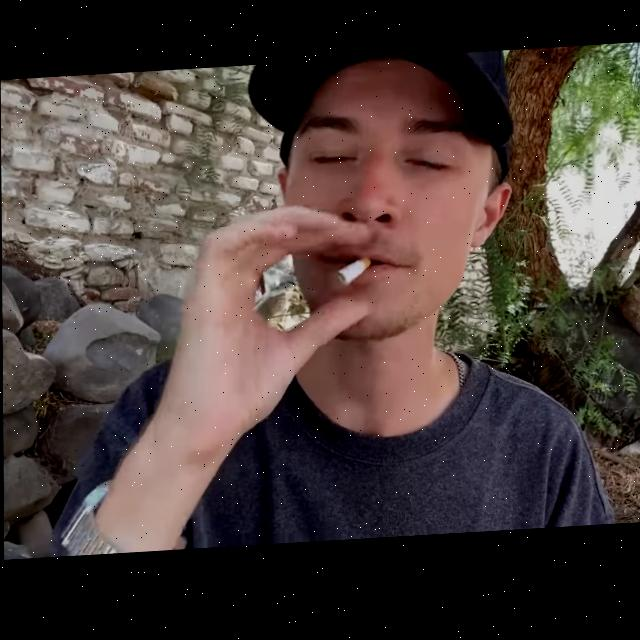cigarette: (335, 262, 371, 291)
